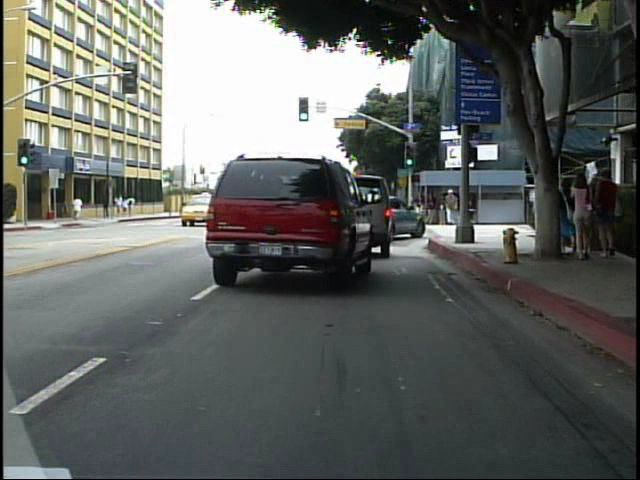person: (595, 165, 627, 263), (567, 172, 598, 263), (442, 188, 459, 229), (71, 194, 86, 225)
